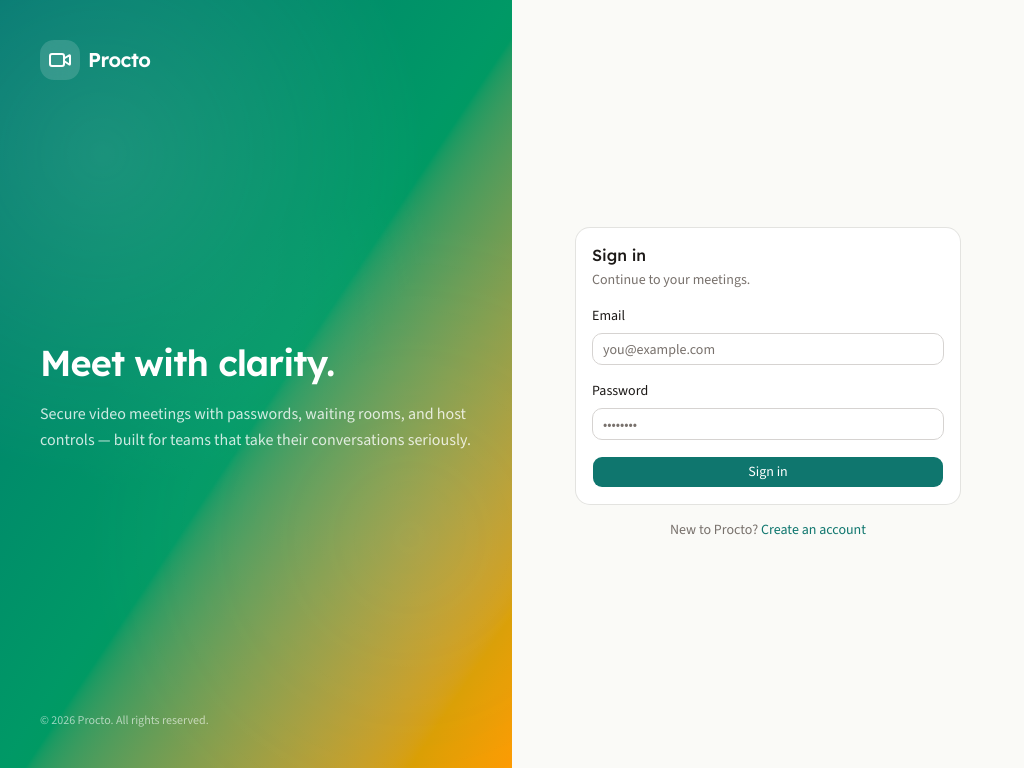
it: LoginPage › rejects malformed email addresses client-side
Type "not-an-email" into the field labelled "Email" at (768, 349), box [592,333,944,365]
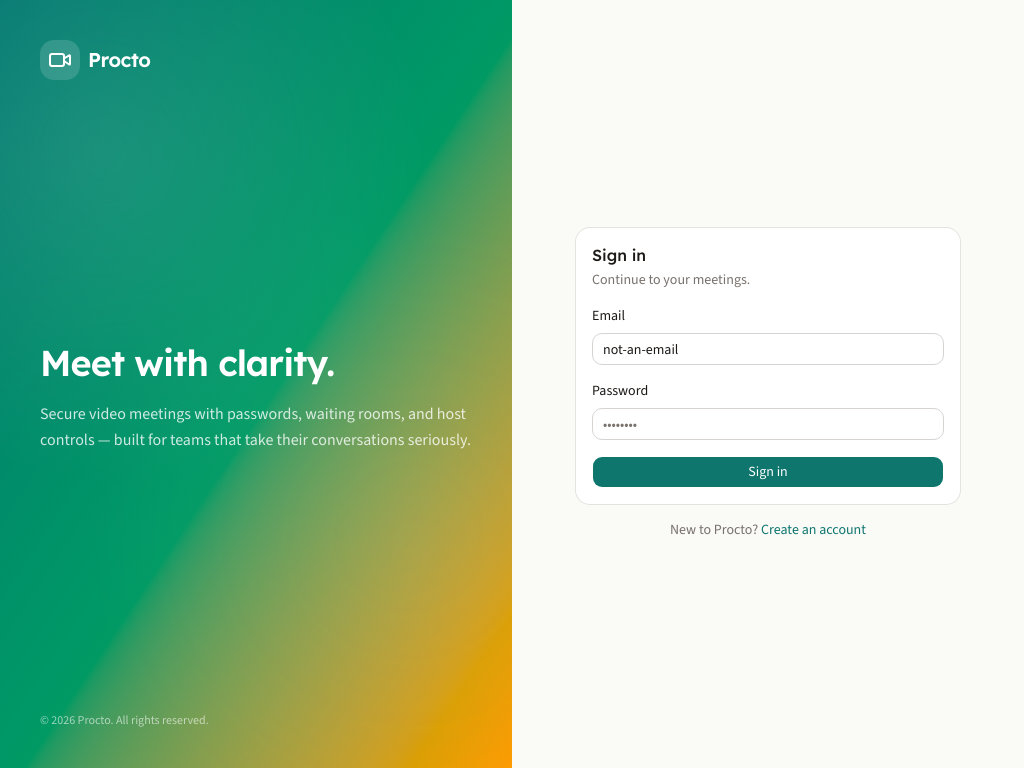
Type "secret123" into the password field labelled "Password" at (768, 424), box [592,408,944,440]
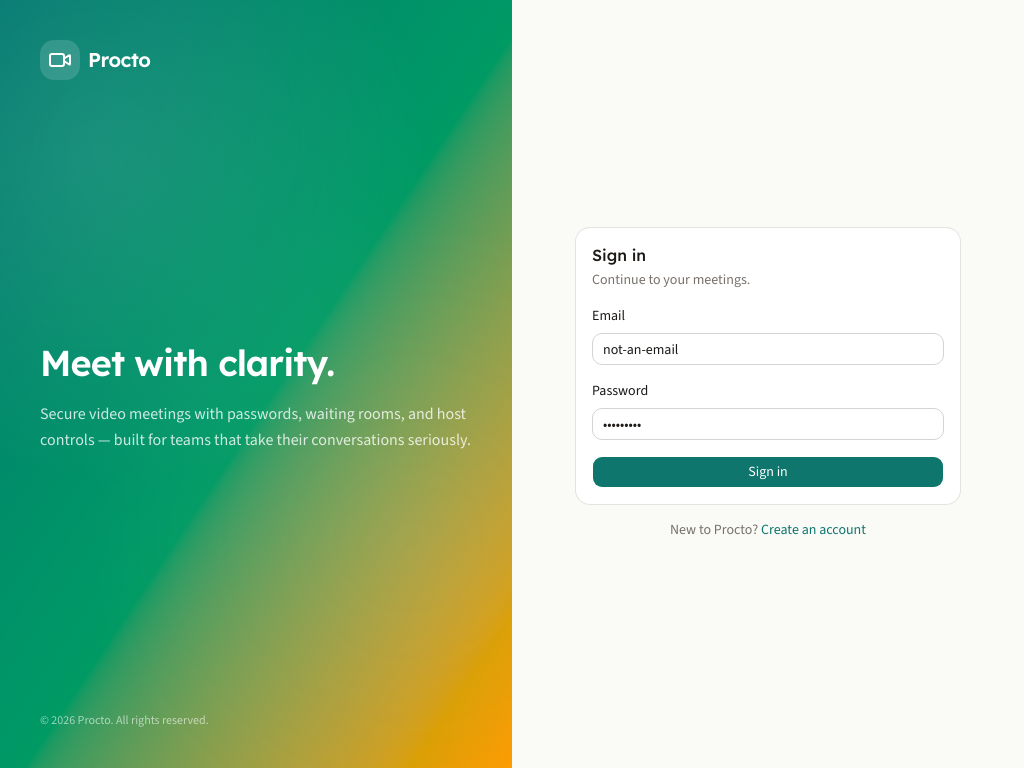
Click the button "Sign in" at (768, 472), box [592,456,944,488]
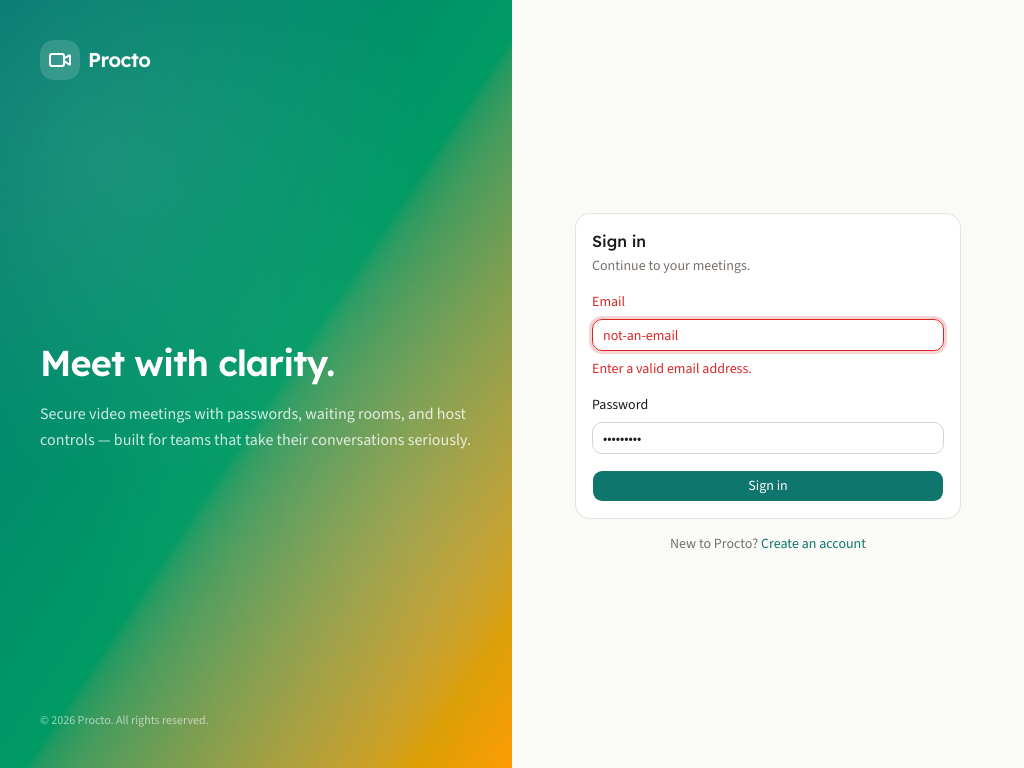
Expected: the text "Enter a valid email address." is shown, [592,359,752,378]
